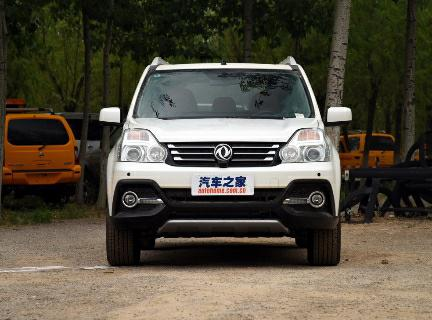东风风度-MX6: (95, 52, 352, 269)
